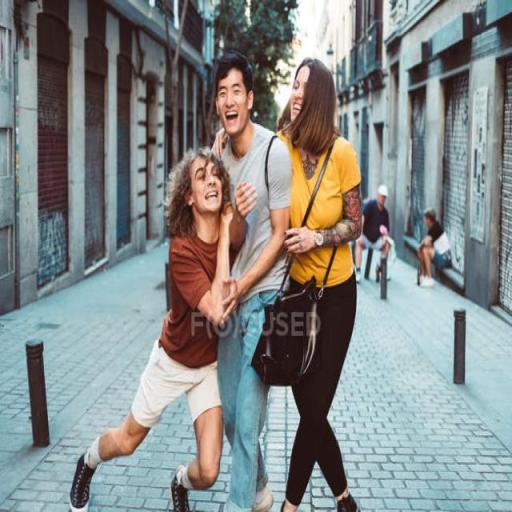person: (75, 147, 232, 512), (273, 54, 361, 512), (211, 53, 293, 512), (352, 180, 398, 290), (419, 204, 460, 294)
